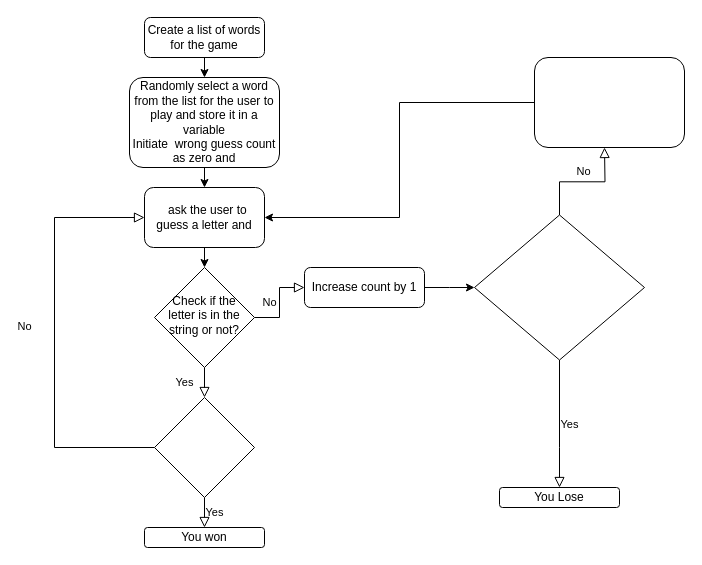
The diagram is 702 pixels wide and 565 high, and some of its shapes have lost their labels. The centre of each missing label's shape, as x and y in pixels:
"check if count is 7 or not" goes at (x=559, y=287).
"Check if the word is complete or not?" goes at (x=204, y=447).
"Print appropriate image according to count" goes at (x=609, y=102).
